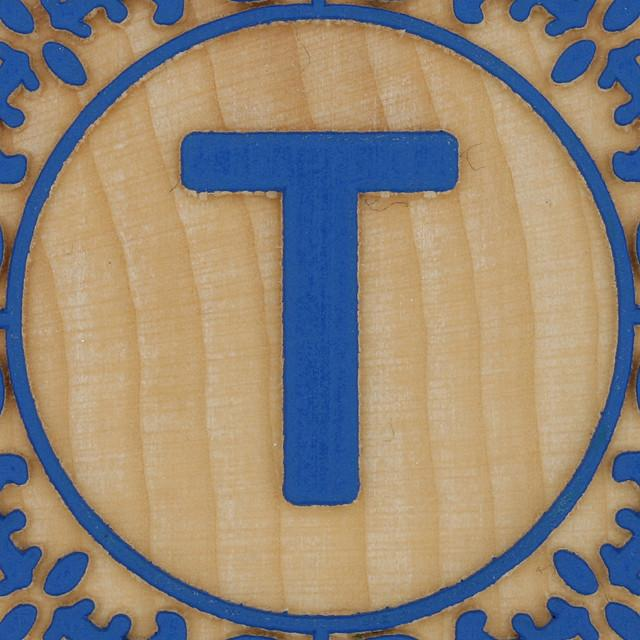T: (171, 88, 472, 530)
